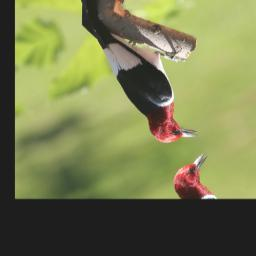Woodpecker: (80, 0, 205, 164)
